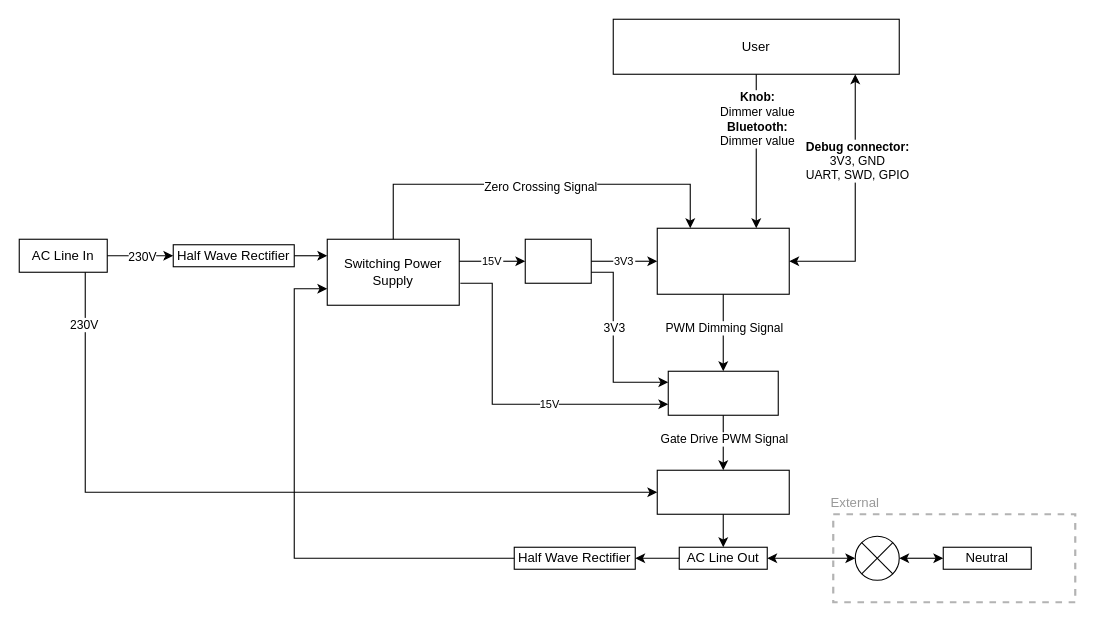
Image size: 1096x623. Some labels were removed from this diagram. The shapes that lost their labels are listed below. From the top down, each one's centre as x and y in pixels, then its label:
At [557,260]: "LDO".
At [722,260]: "MCU".
At [722,392]: "Gate Driver".
At [722,491]: "Semiconductors".
